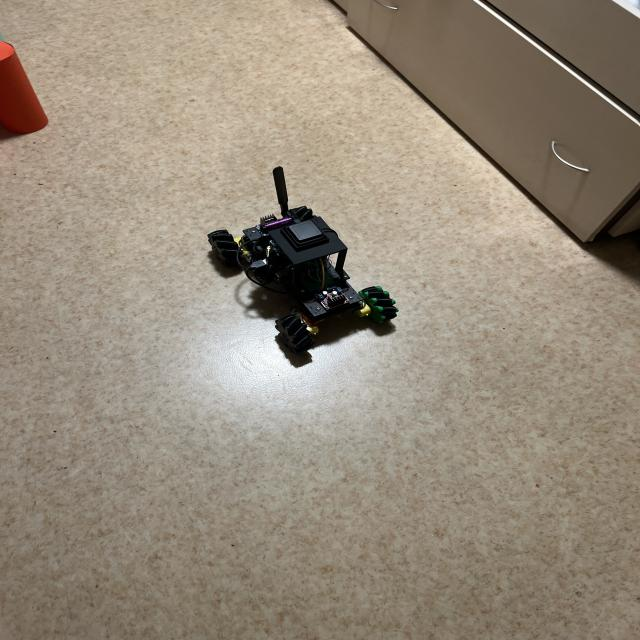robot: (208, 167, 398, 352)
